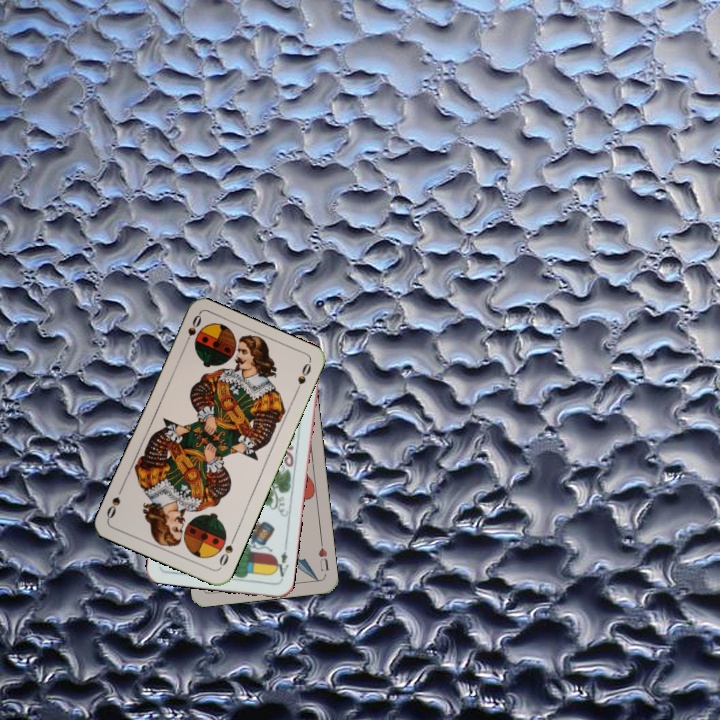EA: (270, 542, 291, 582)
HU: (314, 537, 331, 574)
SO: (180, 311, 204, 350), (215, 532, 238, 569)
